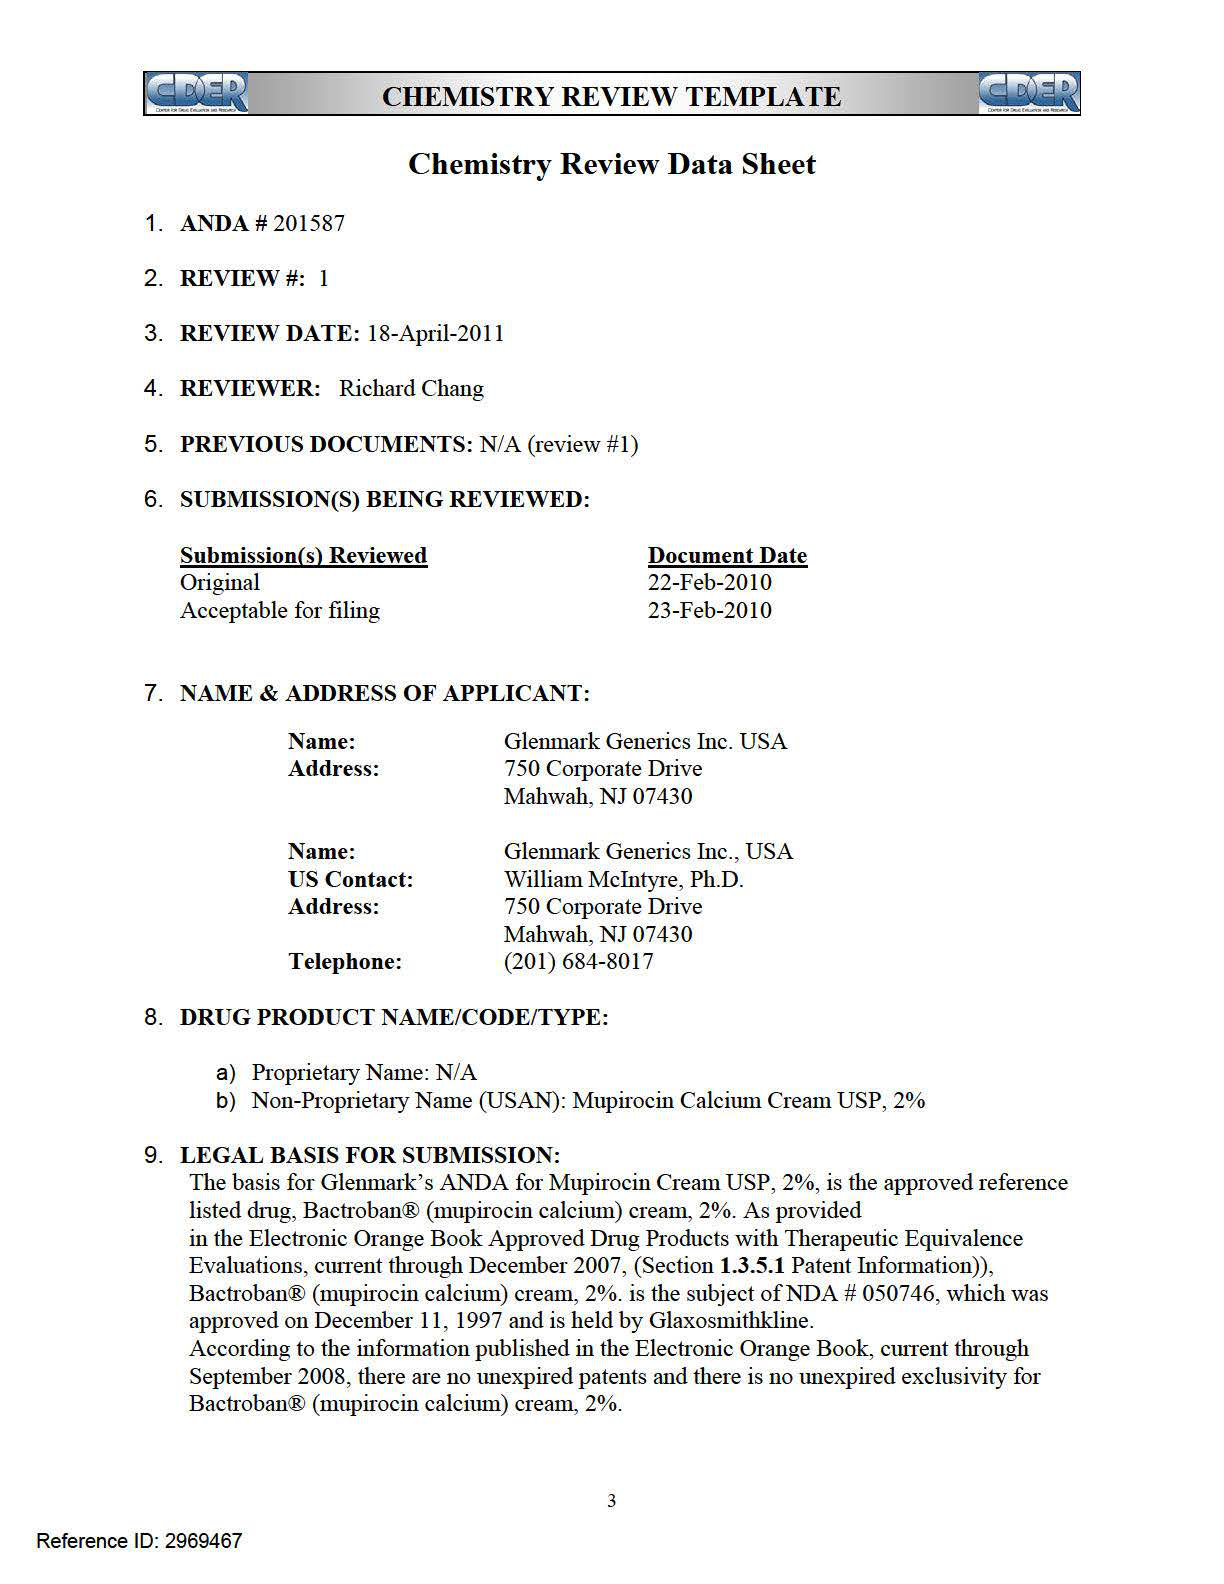nolines: (285, 729, 798, 973), (177, 543, 811, 624)
